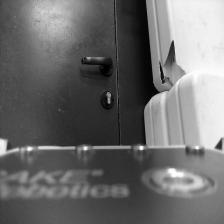Door Handle: (81, 56, 114, 78)
Lock: (101, 90, 114, 111)
